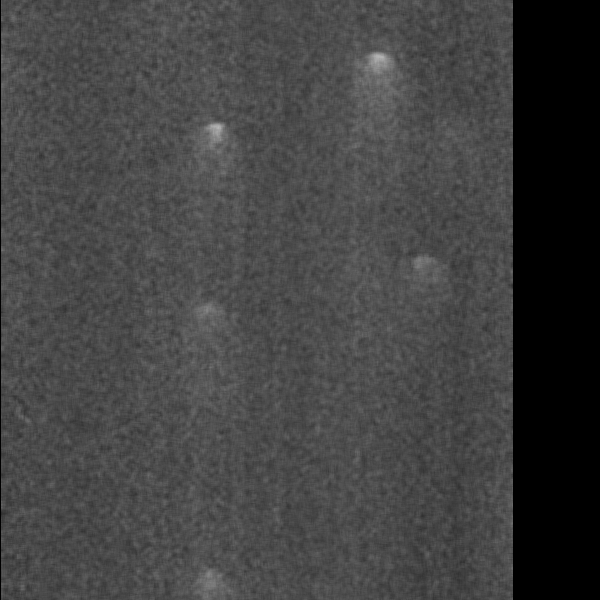spark: (362, 139, 410, 180), (204, 80, 240, 124)
